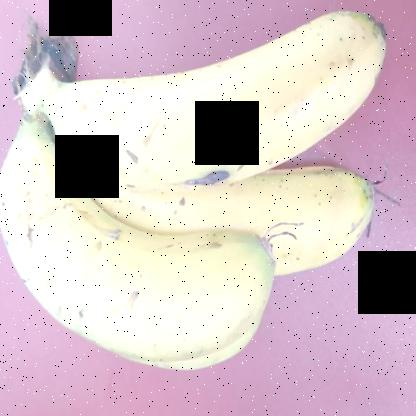ripe: (28, 1, 395, 183), (1, 127, 246, 390), (240, 150, 375, 302)
